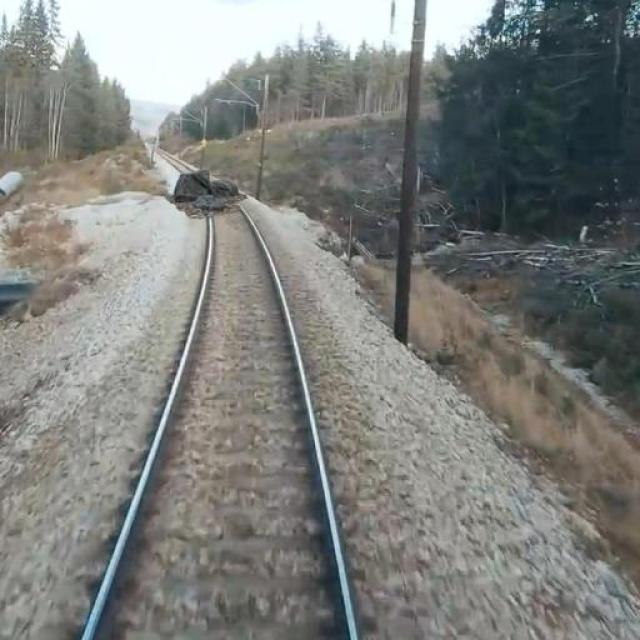Stone: (168, 170, 256, 218)
